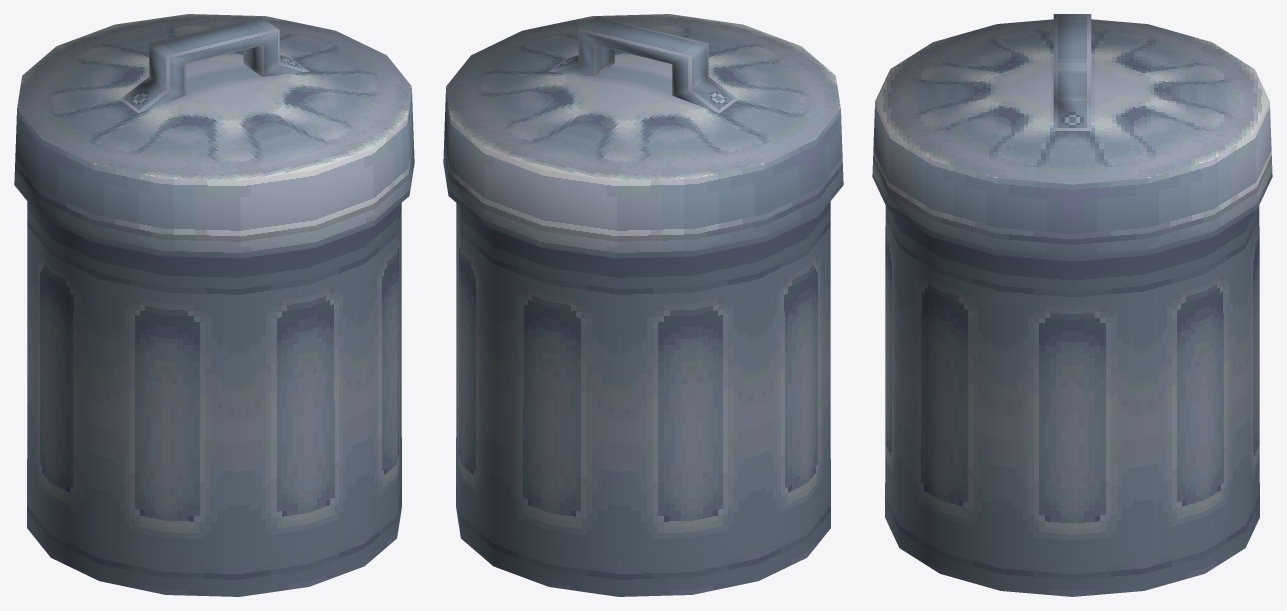
The model's file is int_oth_trash_c.dae.
3 views of the same model, side by side, from view 1: azimuth 30°, elevation 25°; view 2: azimuth 150°, elevation 25°; view 3: azimuth 270°, elevation 25° (orthographic).
Parts seen in each view (by area): view 1: int_oth_trash_c; view 2: int_oth_trash_c; view 3: int_oth_trash_c.
Part boxes in pixels (left/top/right/bottom): int_oth_trash_c: left=14, top=14, right=414, bottom=596; int_oth_trash_c: left=443, top=14, right=843, bottom=596; int_oth_trash_c: left=872, top=14, right=1272, bottom=596.
Size of the model in its own units: 25.69 by 33.78 by 25.69.
Materials: 1 (1 with a texture image).
